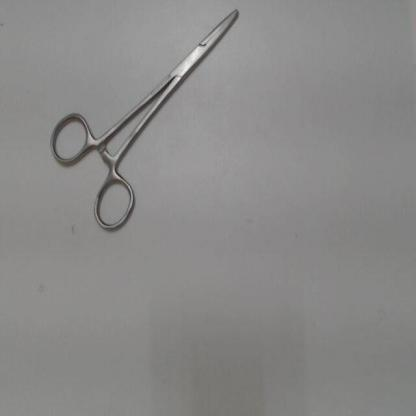Mayo Needle Holder: (43, 3, 253, 242)
